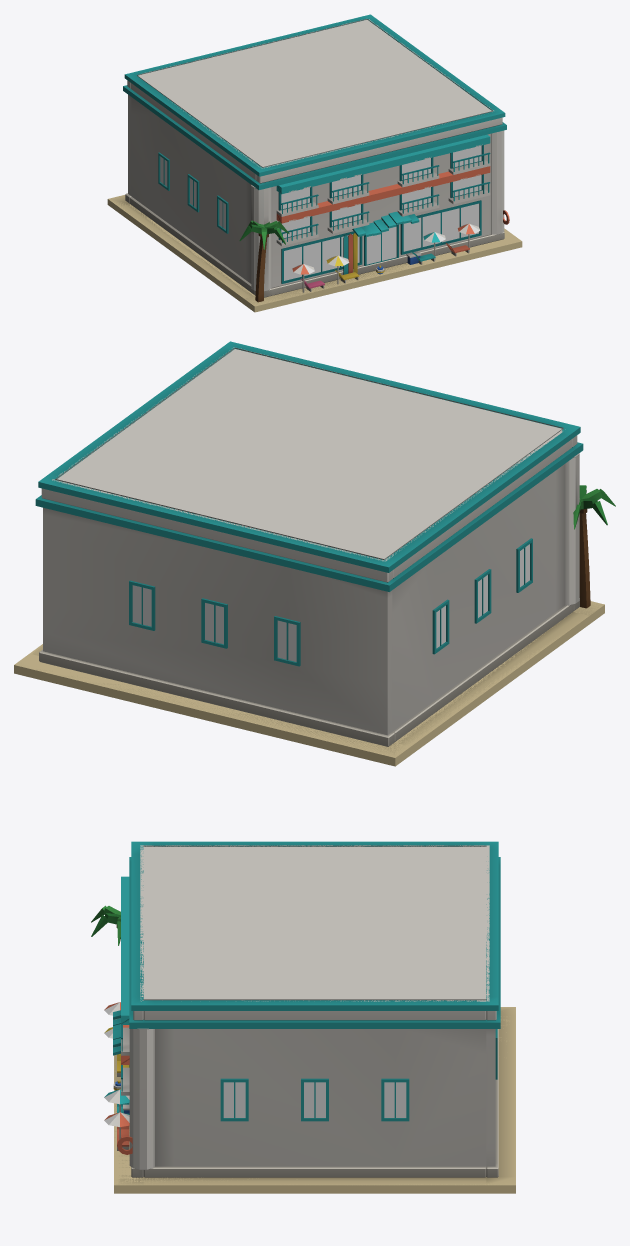
File: UmbrellaLizardFloor.fbx
3 renders of one model, top to bottom at view 1: azimuth 30°, elevation 25°; view 2: azimuth 150°, elevation 25°; view 3: azimuth 270°, elevation 25°, orthographic. The views are drawn at different scales.
Parts seen in each view (by area): view 1: BE_S_All, BE_F_Rings, BE_F_Smooth, BE_F_Glass, BE_F_Props, BE_F_Quiet; view 2: BE_F_Rings, BE_S_All, BE_F_Smooth, BE_F_Quiet, BE_F_Glass, BE_F_Props; view 3: BE_S_All, BE_F_Rings, BE_F_Smooth, BE_F_Quiet, BE_F_Glass, BE_F_Props.
Boxes of the visible parts, x1=… form: BE_S_All: x1=107, y1=19, x2=522, y2=312; BE_F_Rings: x1=123, y1=14, x2=506, y2=295; BE_F_Smooth: x1=123, y1=74, x2=509, y2=297; BE_F_Glass: x1=160, y1=145, x2=481, y2=280; BE_F_Props: x1=249, y1=211, x2=480, y2=302; BE_F_Quiet: x1=108, y1=195, x2=509, y2=305; BE_F_Rings: x1=36, y1=341, x2=582, y2=746; BE_S_All: x1=14, y1=347, x2=604, y2=766; BE_F_Smooth: x1=35, y1=427, x2=615, y2=746; BE_F_Quiet: x1=14, y1=601, x2=603, y2=757; BE_F_Glass: x1=132, y1=544, x2=529, y2=661; BE_F_Props: x1=579, y1=485, x2=603, y2=608; BE_S_All: x1=114, y1=845, x2=515, y2=1193; BE_F_Rings: x1=121, y1=841, x2=500, y2=1177; BE_F_Smooth: x1=91, y1=908, x2=500, y2=1177; BE_F_Quiet: x1=114, y1=1007, x2=515, y2=1185; BE_F_Glass: x1=223, y1=1082, x2=406, y2=1117; BE_F_Props: x1=102, y1=905, x2=129, y2=1134.
Size of the model in its own units: 60 by 20 by 60.
